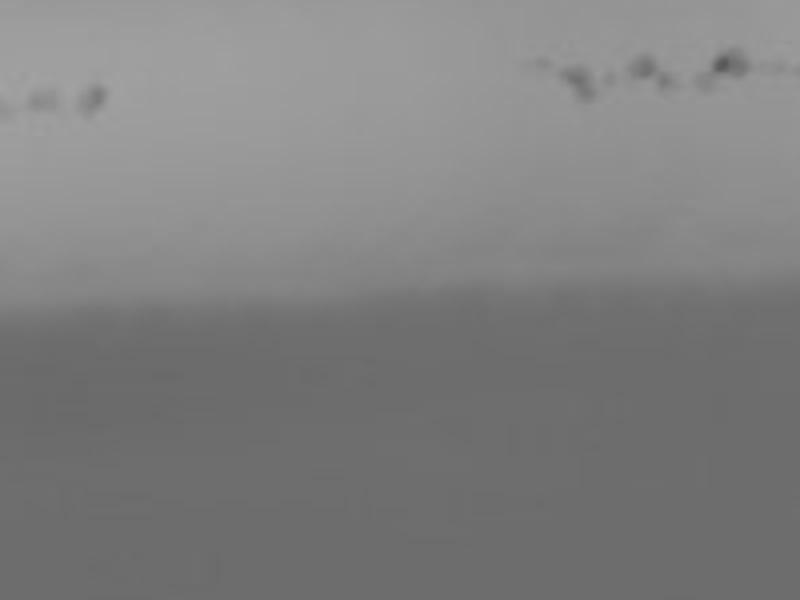defect: (556, 67, 595, 103), (25, 84, 63, 115), (74, 85, 109, 117), (715, 47, 749, 74), (694, 68, 716, 94), (627, 53, 653, 74), (599, 68, 619, 89), (655, 71, 675, 92), (530, 52, 550, 72)
